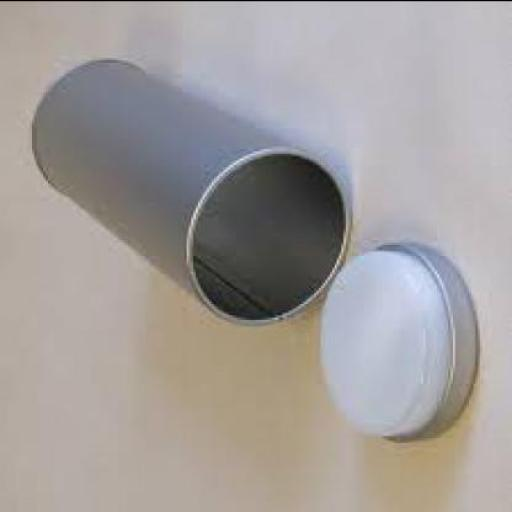metal: (30, 55, 348, 323), (374, 242, 476, 440)
